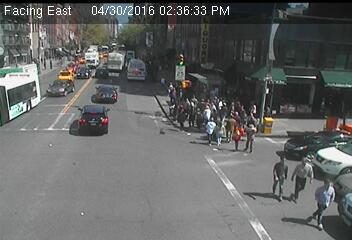neg: (16, 86, 37, 113), (104, 56, 125, 83), (92, 69, 109, 91), (31, 76, 45, 94), (60, 84, 72, 100)
pos: (306, 174, 345, 227), (259, 152, 297, 203), (287, 154, 318, 195)
